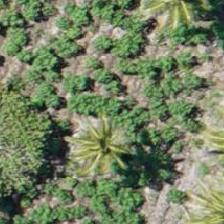coconut_tree: (58, 97, 148, 187)
